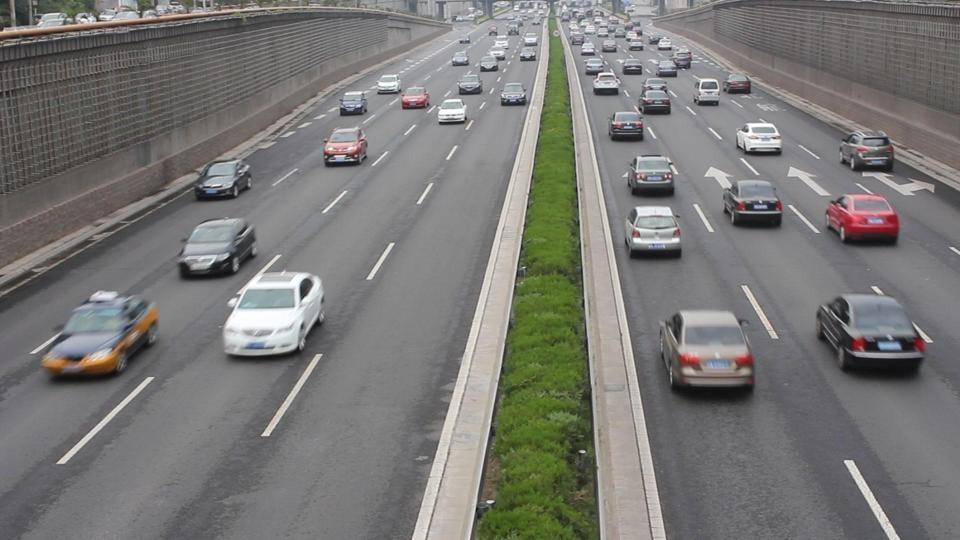car: (40, 290, 160, 380), (814, 291, 932, 375), (221, 270, 325, 357), (657, 309, 756, 391), (175, 217, 258, 278), (824, 192, 900, 246), (624, 206, 684, 259), (721, 178, 784, 228), (837, 129, 895, 173), (193, 159, 253, 200), (625, 154, 676, 195), (322, 127, 369, 166), (735, 121, 784, 155), (637, 82, 673, 115), (608, 111, 645, 142), (437, 99, 468, 126), (399, 86, 432, 110), (339, 91, 368, 116), (498, 82, 526, 106), (592, 73, 620, 95), (458, 72, 483, 95), (376, 75, 402, 95), (452, 50, 470, 66)
